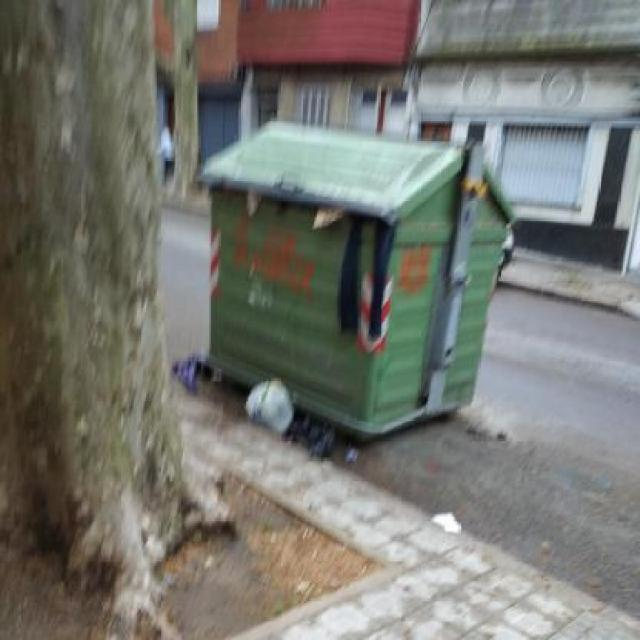garbage: (166, 339, 342, 468), (220, 173, 392, 266)
